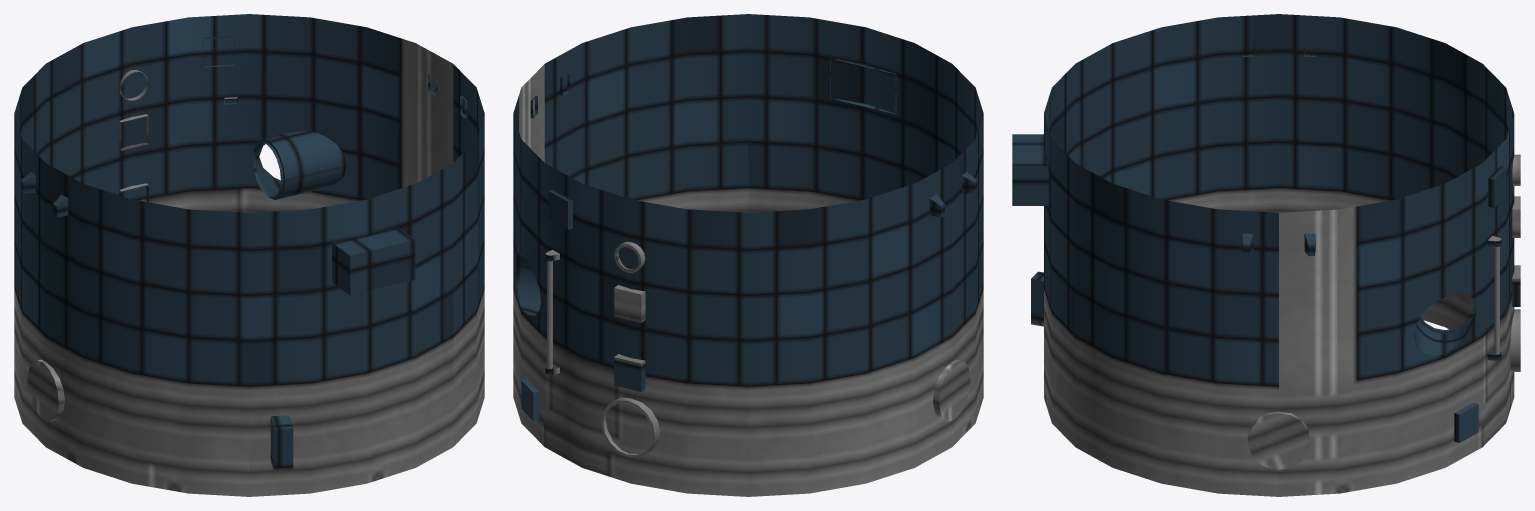
File: aquila_crew_s1p5_1_naked.obj
3 views of the same model, side by side, from view 1: azimuth 30°, elevation 25°; view 2: azimuth 150°, elevation 25°; view 3: azimuth 270°, elevation 25° (orthographic).
Parts seen in each view (by area): view 1: 1; view 2: 1; view 3: 1.
Boxes of the visible parts, x1,y1,x2,y2 form: 1: (14,14,484,496); 1: (513,14,983,496); 1: (1012,14,1520,496).
Bounding box in the file's own units: 1.94 × 1.25 × 2.02.
